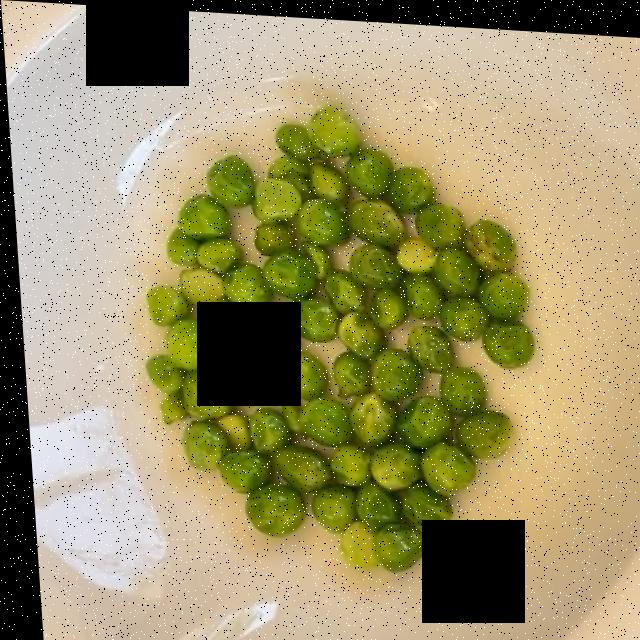peas: (144, 103, 521, 566)
